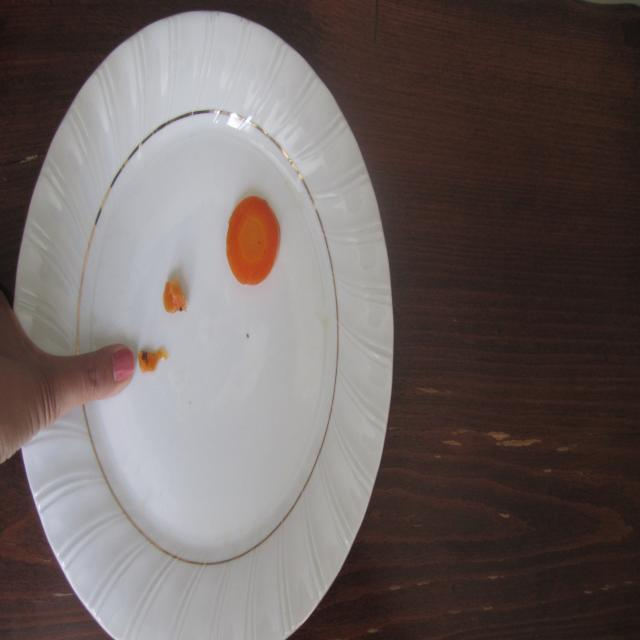Carrot: (217, 180, 290, 294)
Finger: (78, 336, 138, 414)
